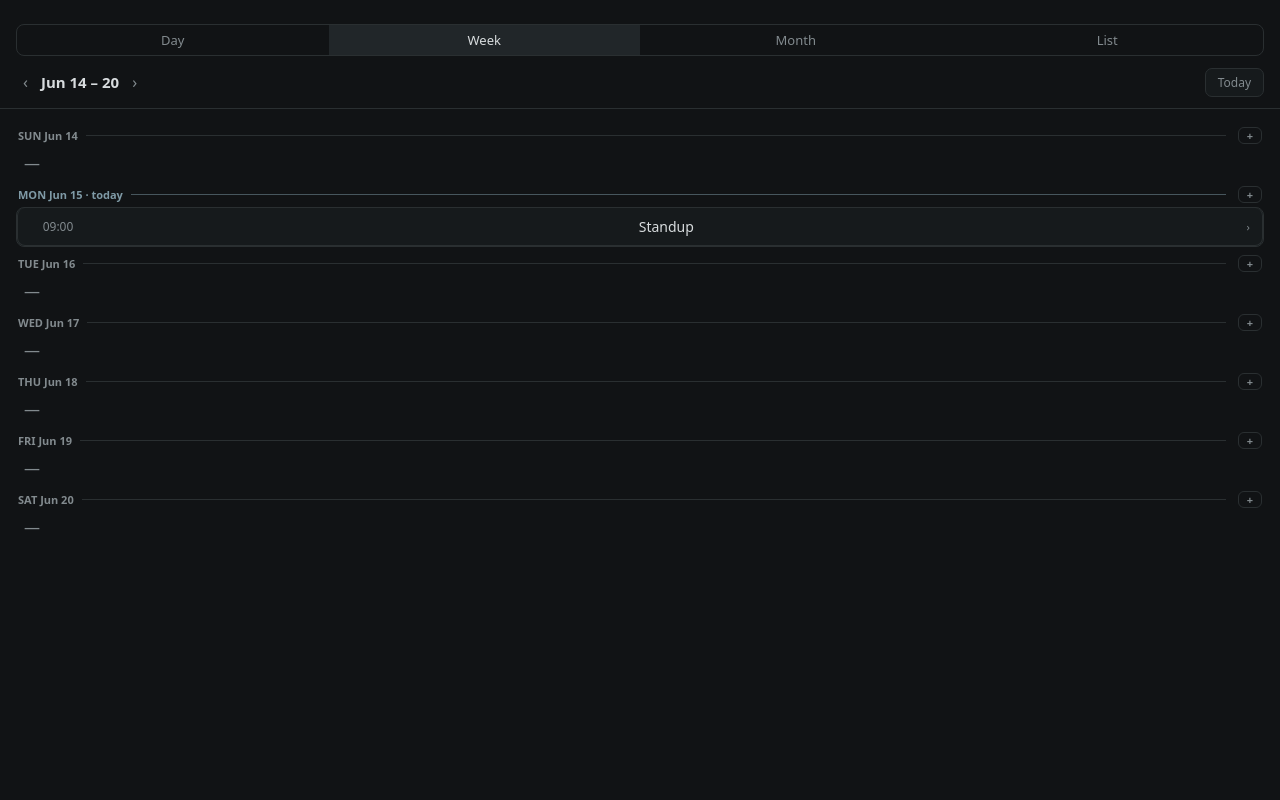
Test: CalendarPage — event sheet › Remove from calendar dismisses the event and shows an undo snackbar
Expected: the text "Standup" is shown, [639,217,694,236]
Click the button "09:00 Standup ›" at (640, 227), box [17,208,1263,246]
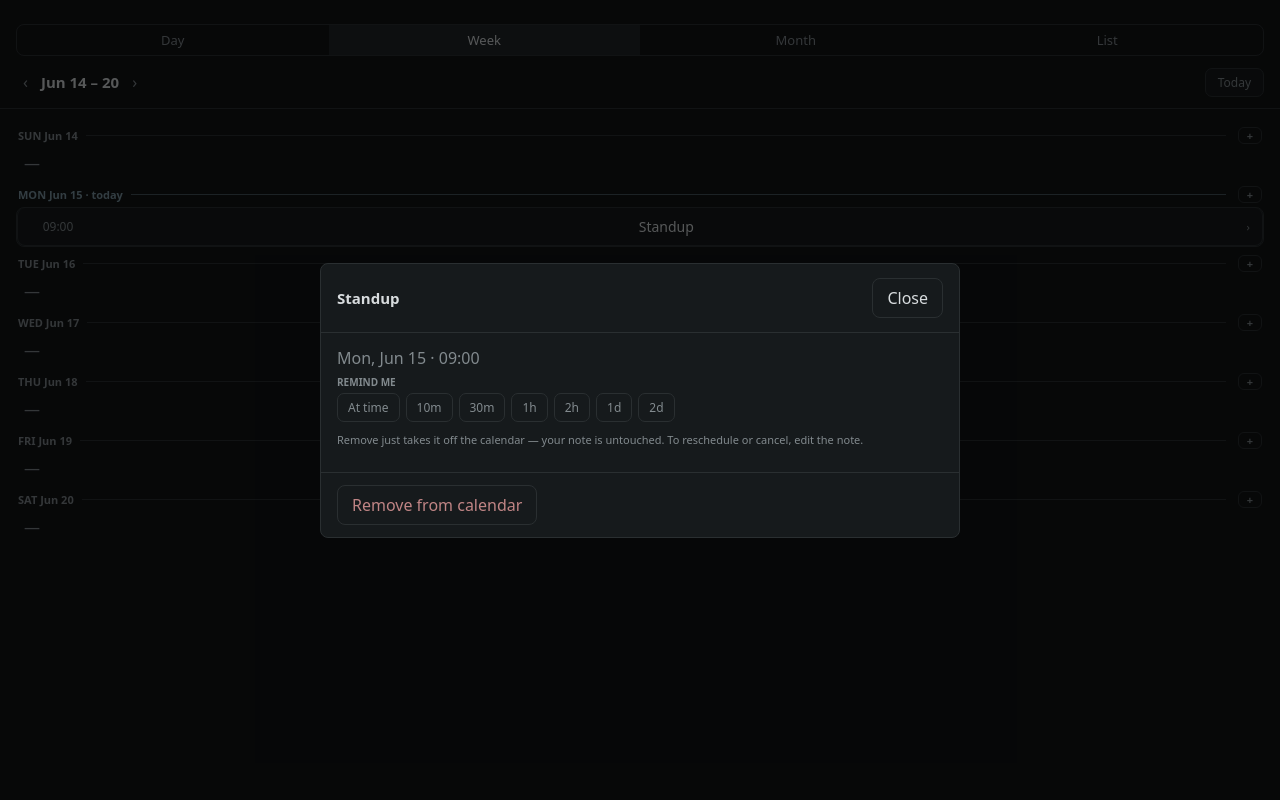
Click the button "Remove from calendar" at (437, 504), box [337,484,537,524]
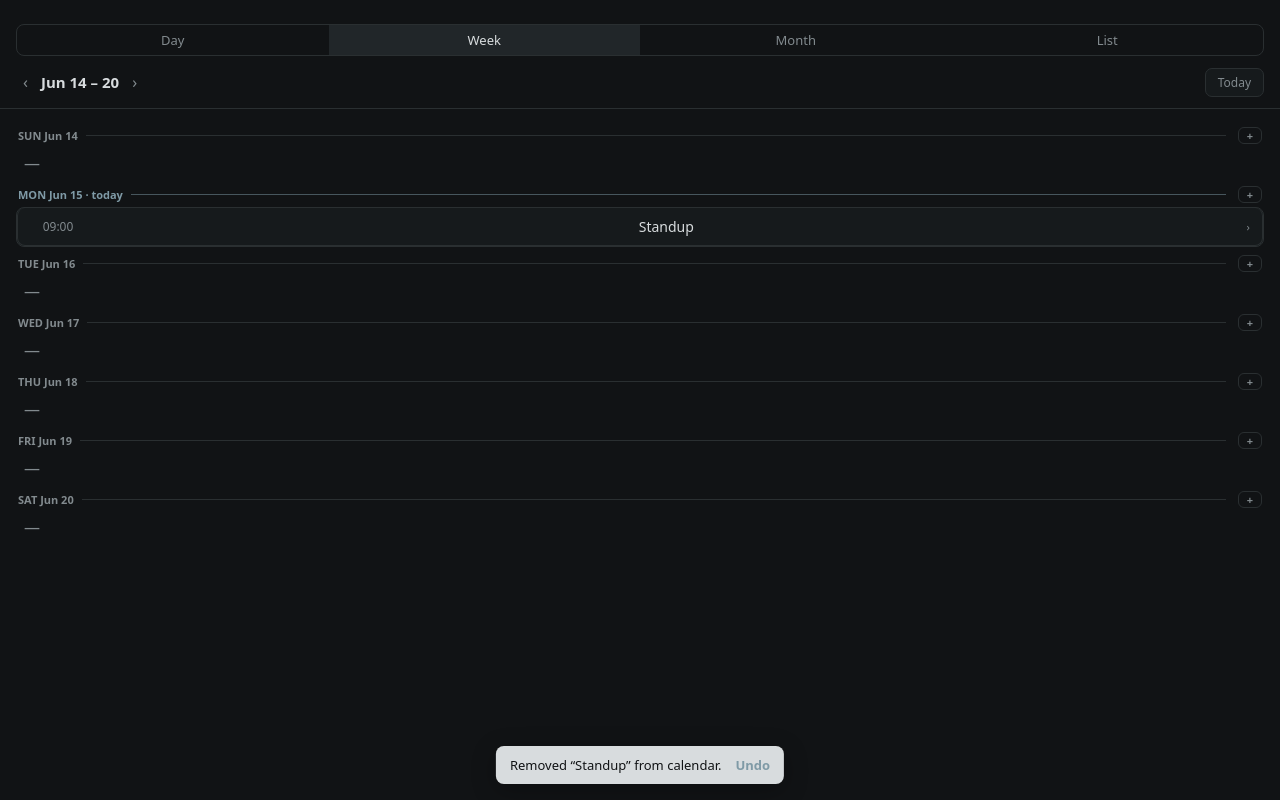
Now the text "Removed “Standup” from calendar." is shown, box [510,756,722,774]
Now the button "Undo" is shown, box [736,756,770,774]
